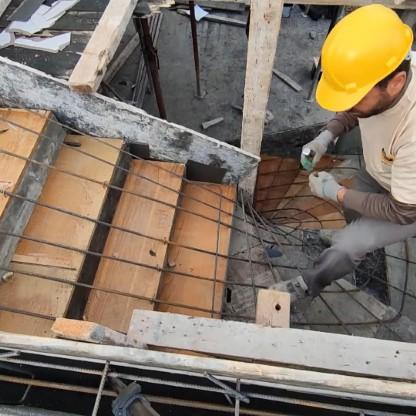helmet: (297, 12, 413, 123)
